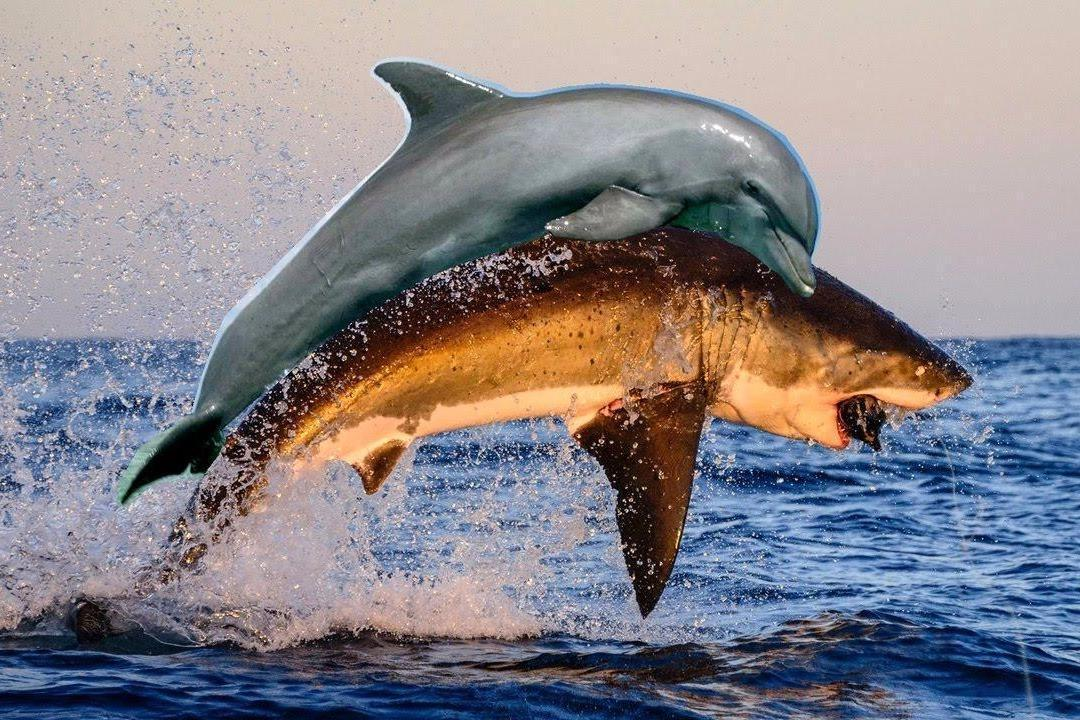fish: (91, 58, 817, 493), (137, 233, 969, 593)
